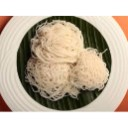idiyappam: (33, 22, 82, 63), (27, 57, 71, 98), (74, 47, 110, 90)
